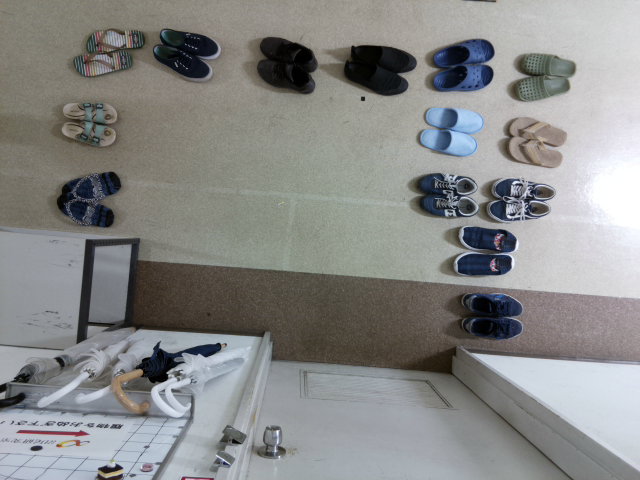Copy of Copy of Copy of Copy of Copy of Copy of Copy of Copy of Copy of Copy of: (333, 52, 410, 100), (341, 36, 427, 74), (426, 34, 502, 72), (422, 59, 498, 97), (451, 220, 521, 259), (448, 246, 518, 285), (411, 125, 484, 159), (500, 111, 567, 148), (417, 103, 489, 137), (509, 46, 581, 80), (506, 70, 578, 104), (484, 172, 562, 203), (503, 134, 570, 170), (453, 288, 529, 318), (451, 312, 527, 342), (483, 195, 555, 226), (406, 193, 483, 219), (408, 168, 484, 194)
Copy of Copy of Copy of Copy of Copy of Copy of Copy of Copy of Copy of shoe: (250, 58, 321, 101)
Copy of Copy of Copy of Copy of Copy of Copy of Copy of Copy of shoe: (253, 30, 324, 72)
Copy of Copy of Copy of Copy of Copy of Copy of Copy of shoe: (146, 40, 217, 82)
Copy of Copy of Copy of Copy of Copy of Copy of shoe: (155, 21, 226, 63)
Copy of Copy of Copy of Copy of Copy of shoe: (80, 21, 151, 54)
Copy of Copy of Copy of Copy of Copy of umbrella: (31, 322, 154, 412)
Copy of Copy of Copy of Copy of shoe: (66, 47, 135, 81)
Copy of Copy of Copy of Copy of umbrella: (1, 319, 136, 408)
Copy of Copy of Copy of shoe: (55, 95, 124, 129)
Copy of Copy of Copy of umbrella: (68, 324, 164, 412)
Copy of Copy of shoe: (55, 117, 124, 151)
Copy of Copy of umbrella: (104, 336, 229, 416)
Copy of shoe: (51, 195, 120, 232)
Copy of umbrella: (165, 348, 260, 419)
shoe: (56, 169, 125, 206)
umbrella: (151, 338, 258, 422)
